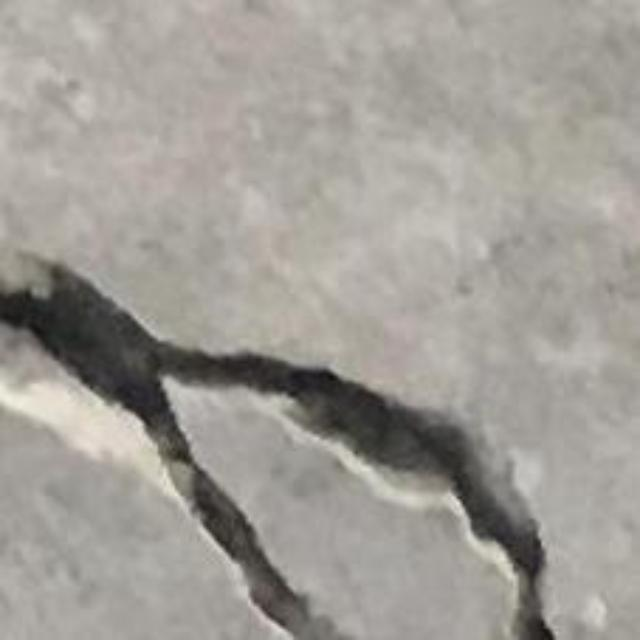crack: (0, 246, 555, 639)
